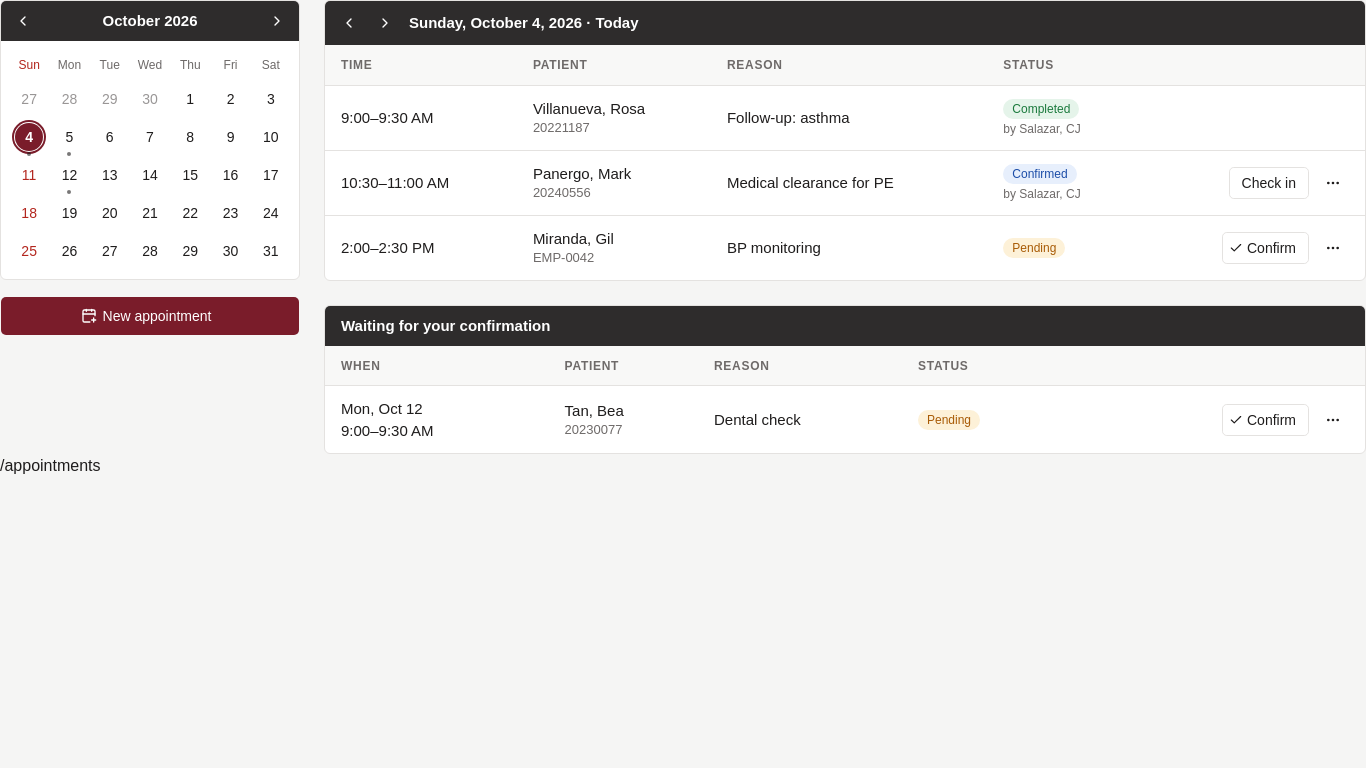
the coordinator cancels an appointment with a reason, after confirmation
Click the button named "More actions for Panergo, Mark".
click(1333, 183)  # box [1317, 167, 1349, 199]
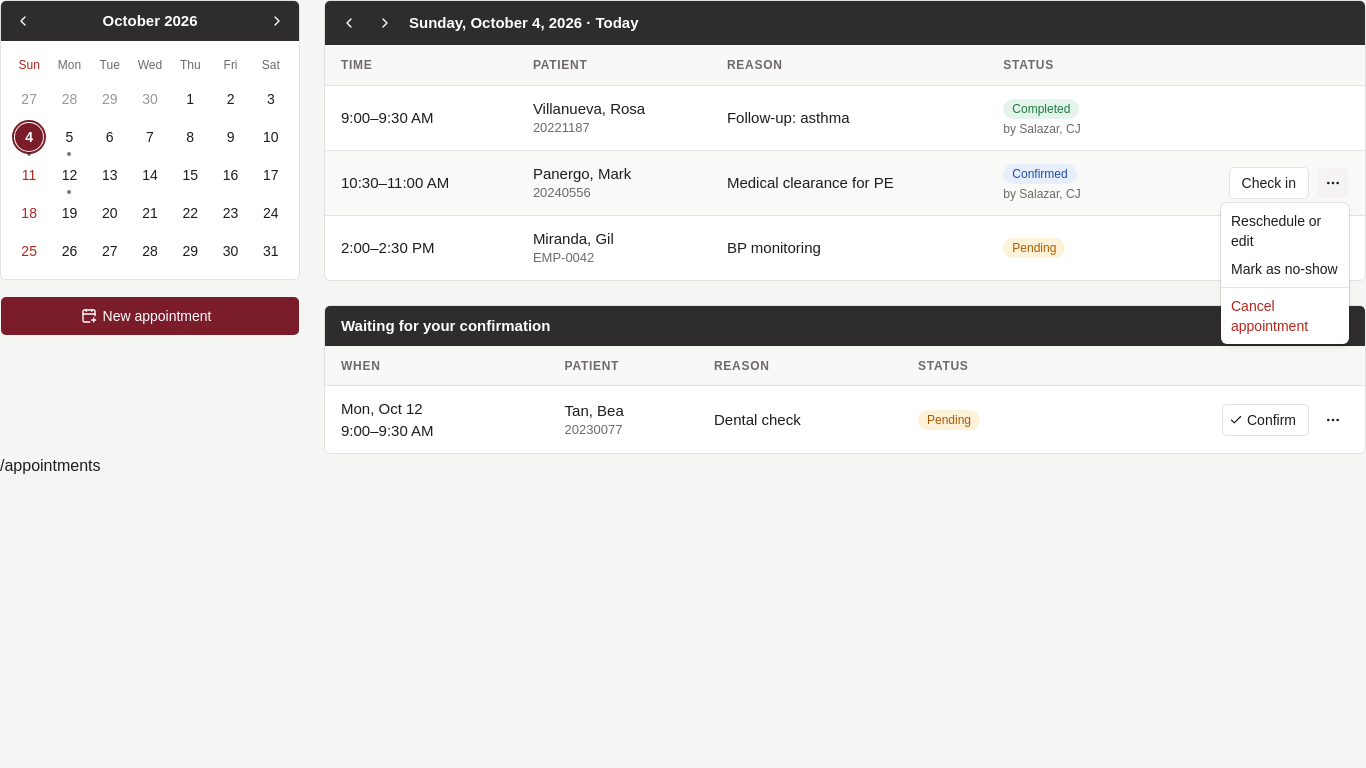
Click the menu item "Cancel appointment".
click(1270, 316)  # box [1231, 298, 1308, 334]
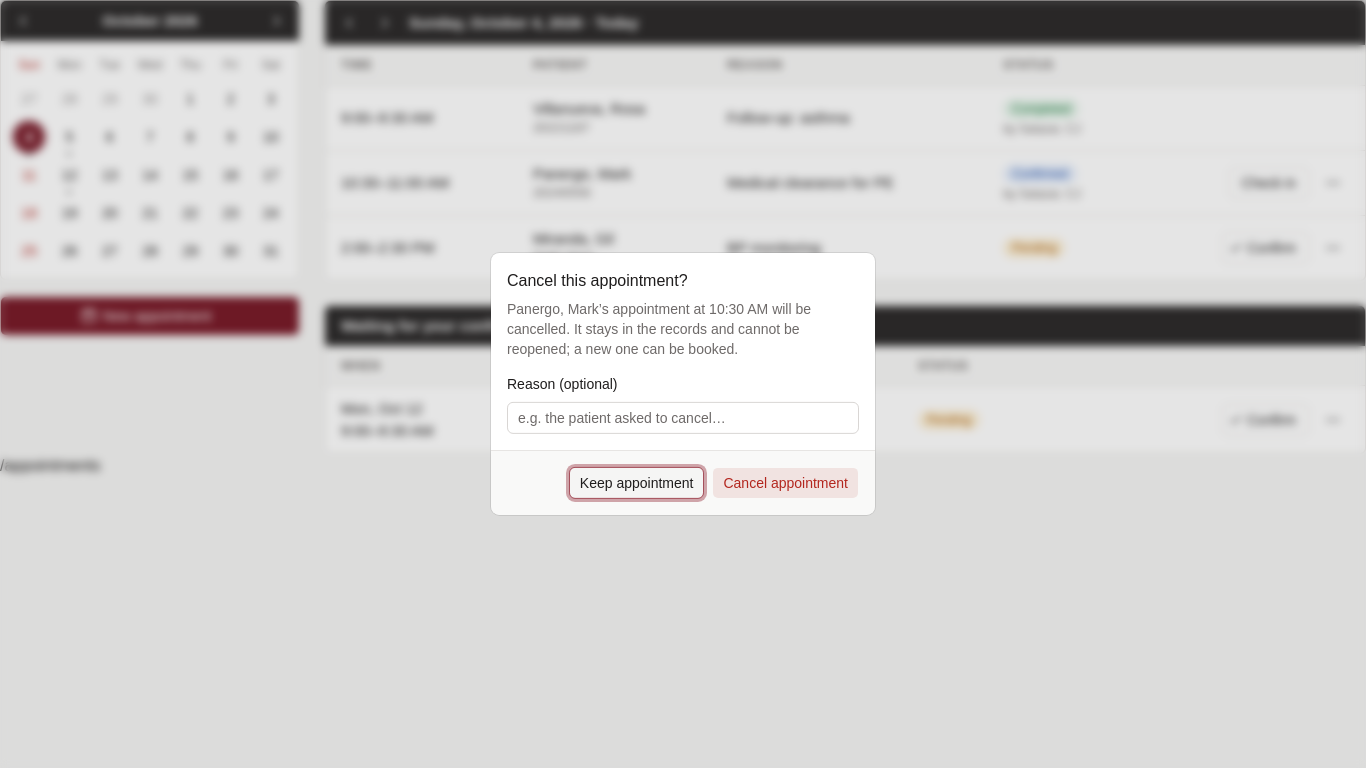
Check: the text "appointment at 10:30 AM will be cancelled" is shown, box [507, 299, 859, 359]
Type "Patient asked to cancel" into the field labelled "Reason (optional)".
click(683, 418); type("Patient asked to cancel")  # box [507, 402, 859, 434]
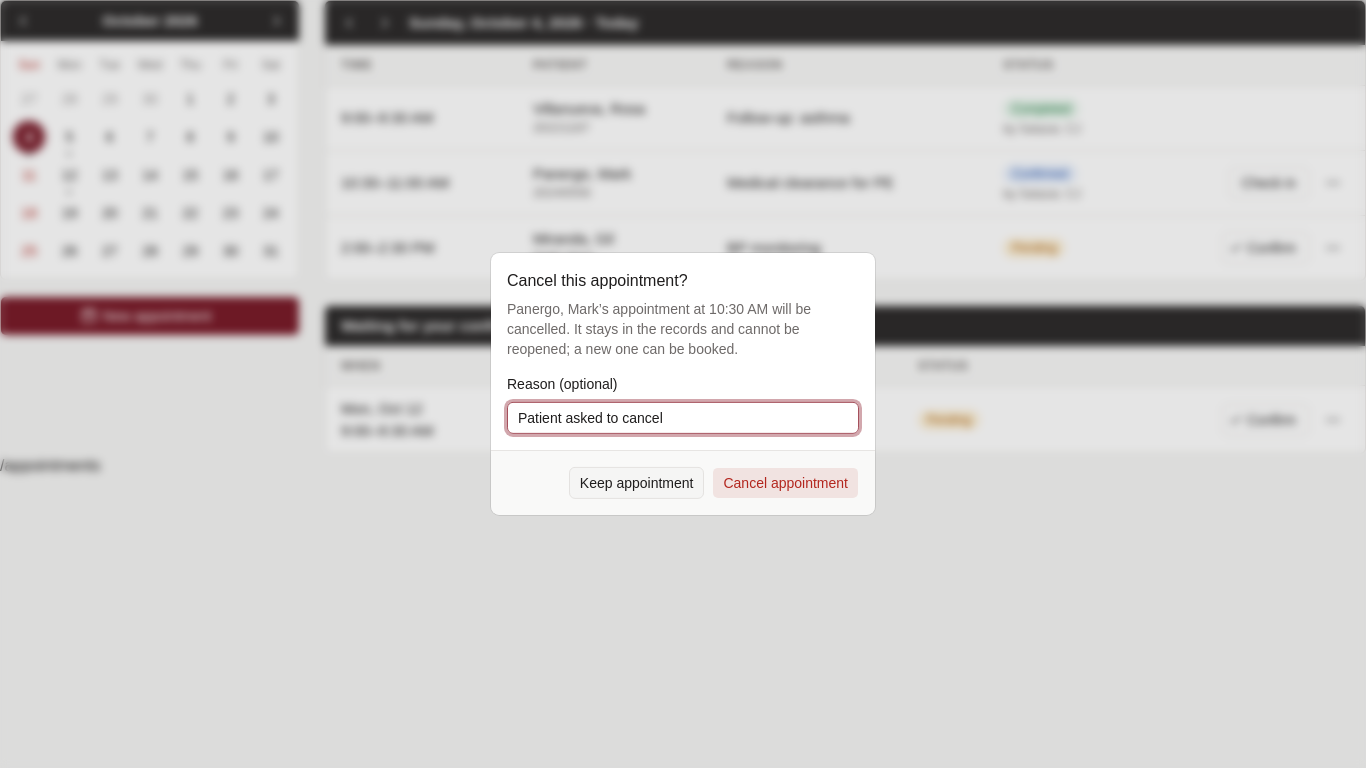
Click the button "Cancel appointment".
click(786, 483)  # box [712, 467, 859, 499]
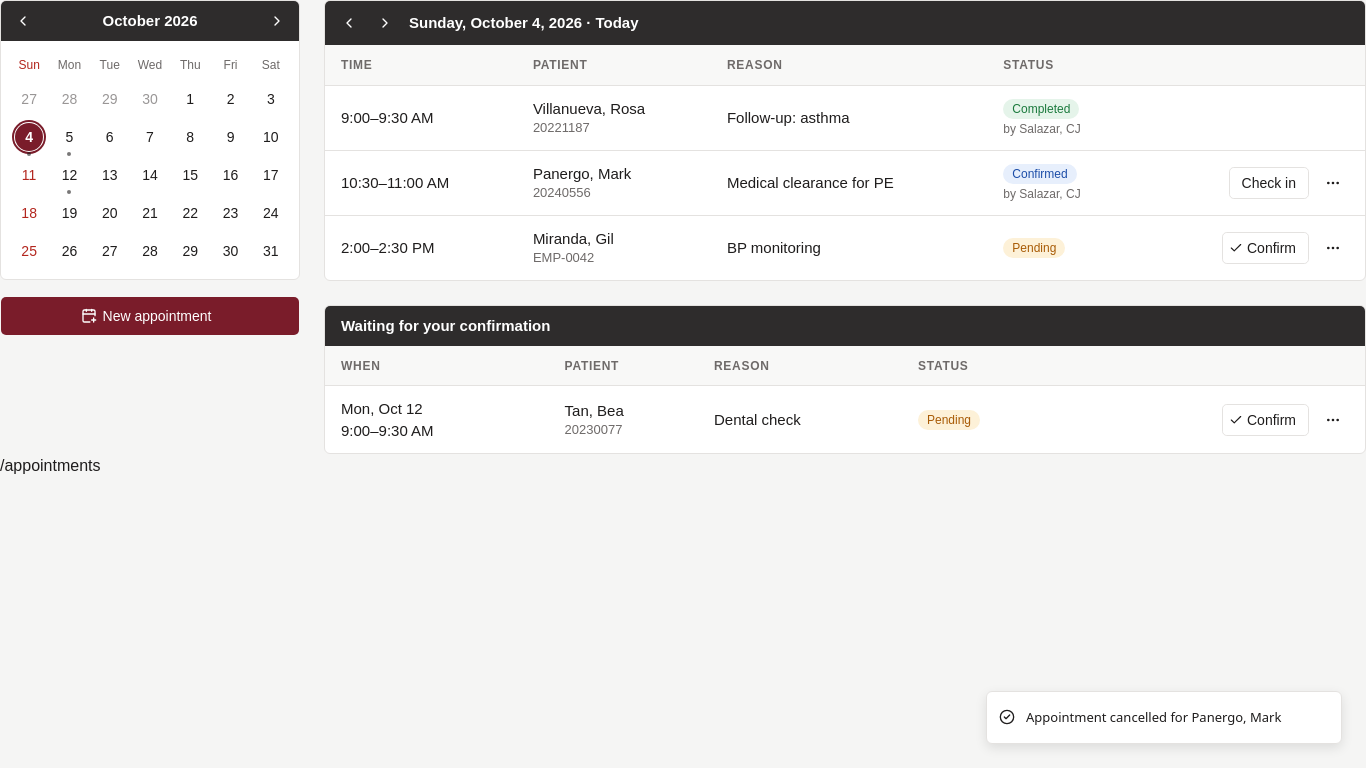
Check: the text "Appointment cancelled for Panergo, Mark" is shown, box [1026, 708, 1281, 727]
